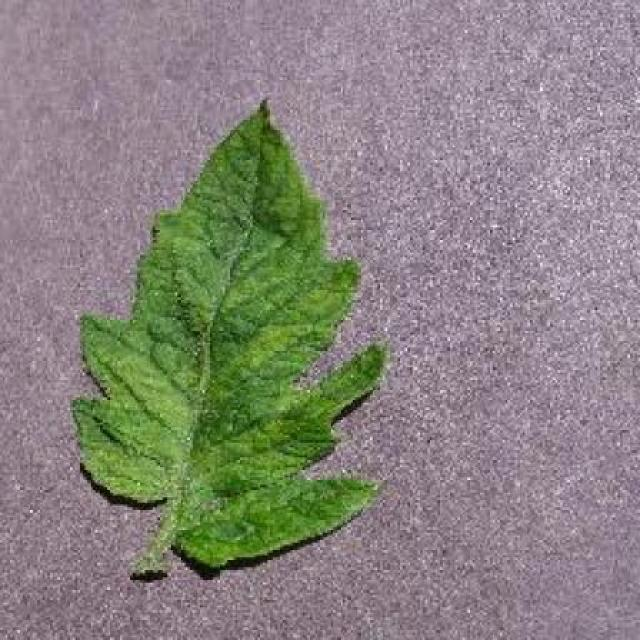Mosaic Virus: (65, 94, 392, 575)
